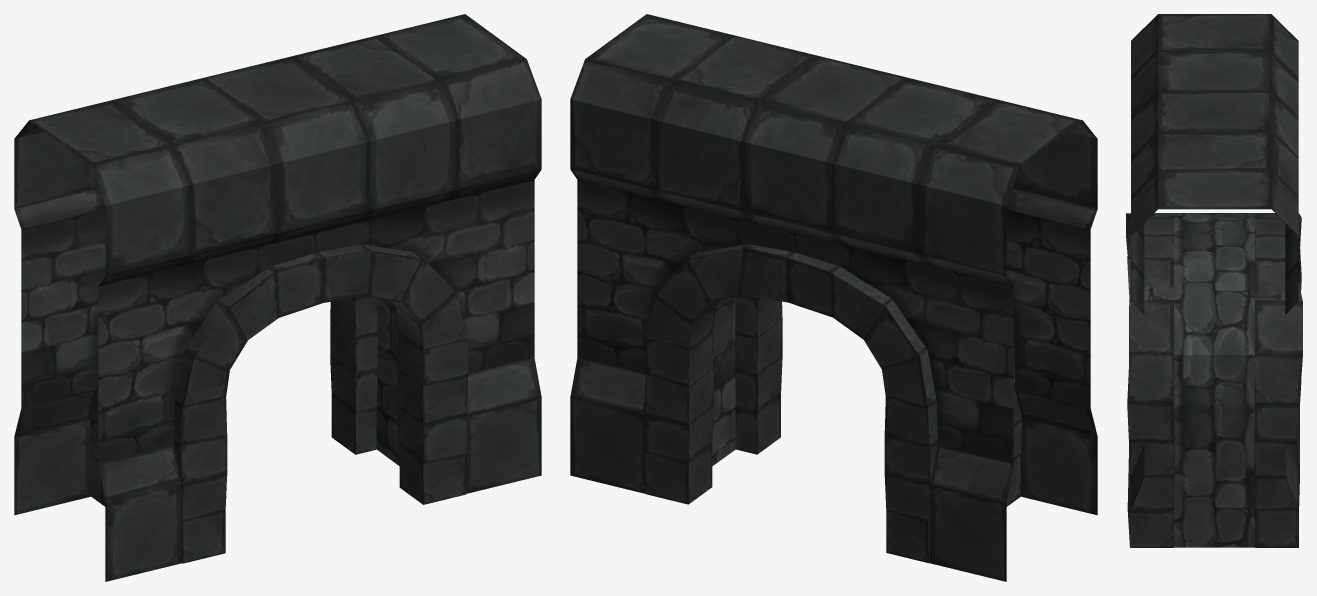
File: cp_gatewall.FBX
3 views of the same model, side by side, from view 1: azimuth 30°, elevation 25°; view 2: azimuth 150°, elevation 25°; view 3: azimuth 270°, elevation 25° (orthographic). The views are drawn at different scales.
Visible parts, largest first — view 1: gatewall; view 2: gatewall; view 3: gatewall.
Part boxes in pixels (bbox=[...]): gatewall: bbox=[14, 14, 541, 581]; gatewall: bbox=[570, 14, 1097, 581]; gatewall: bbox=[1126, 14, 1302, 547].
Size of the model in its own units: 43.98 by 39.09 by 16.83.
